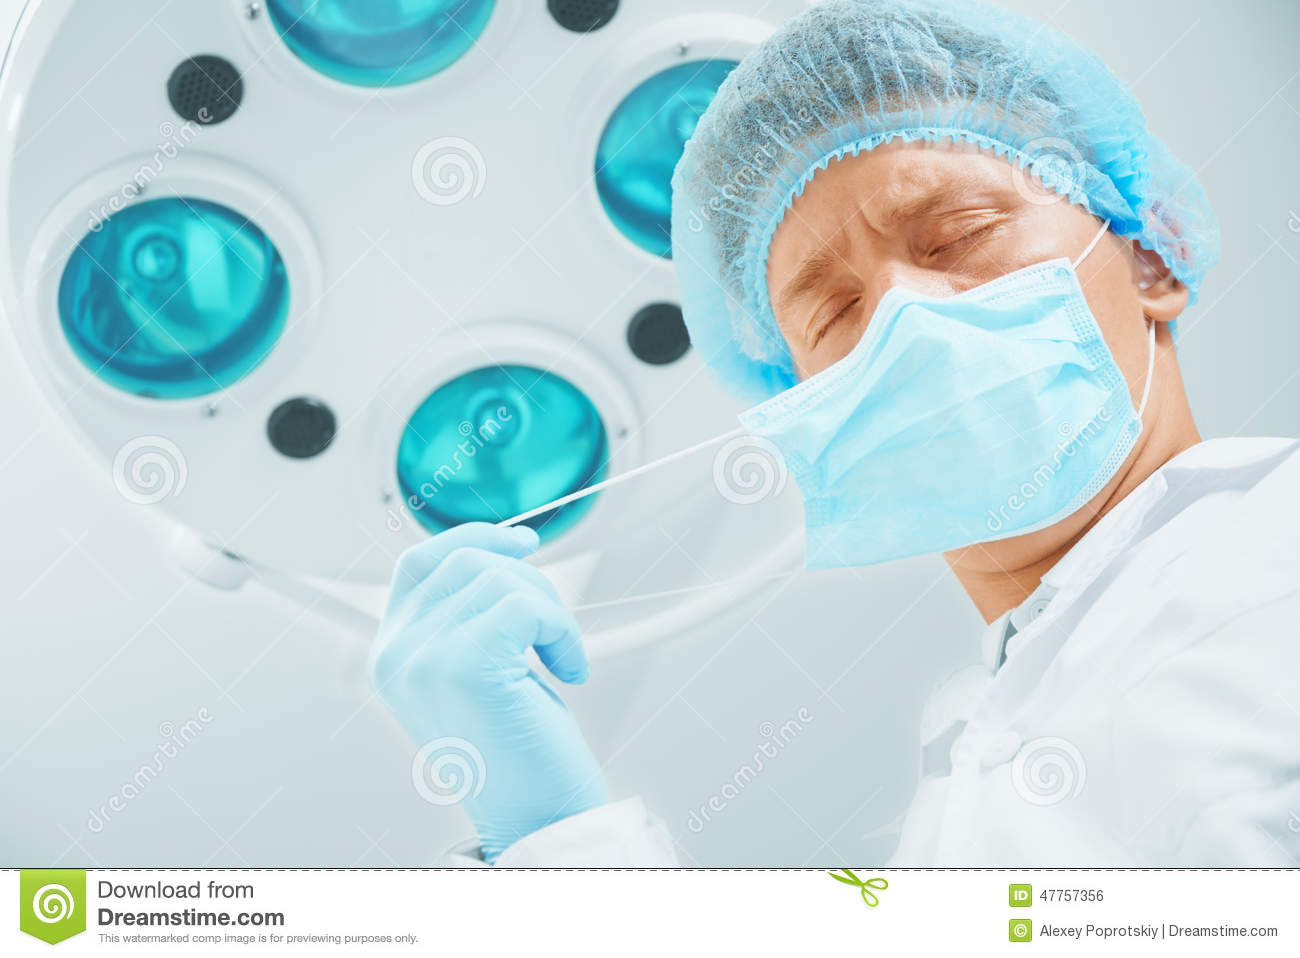mask: (747, 329, 1150, 546)
